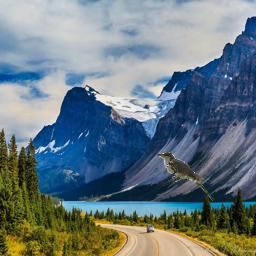Cuckoo: (157, 152, 214, 201)
